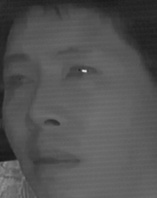eye: (63, 63, 100, 83), (6, 71, 36, 91)
mouth: (25, 146, 82, 178)
